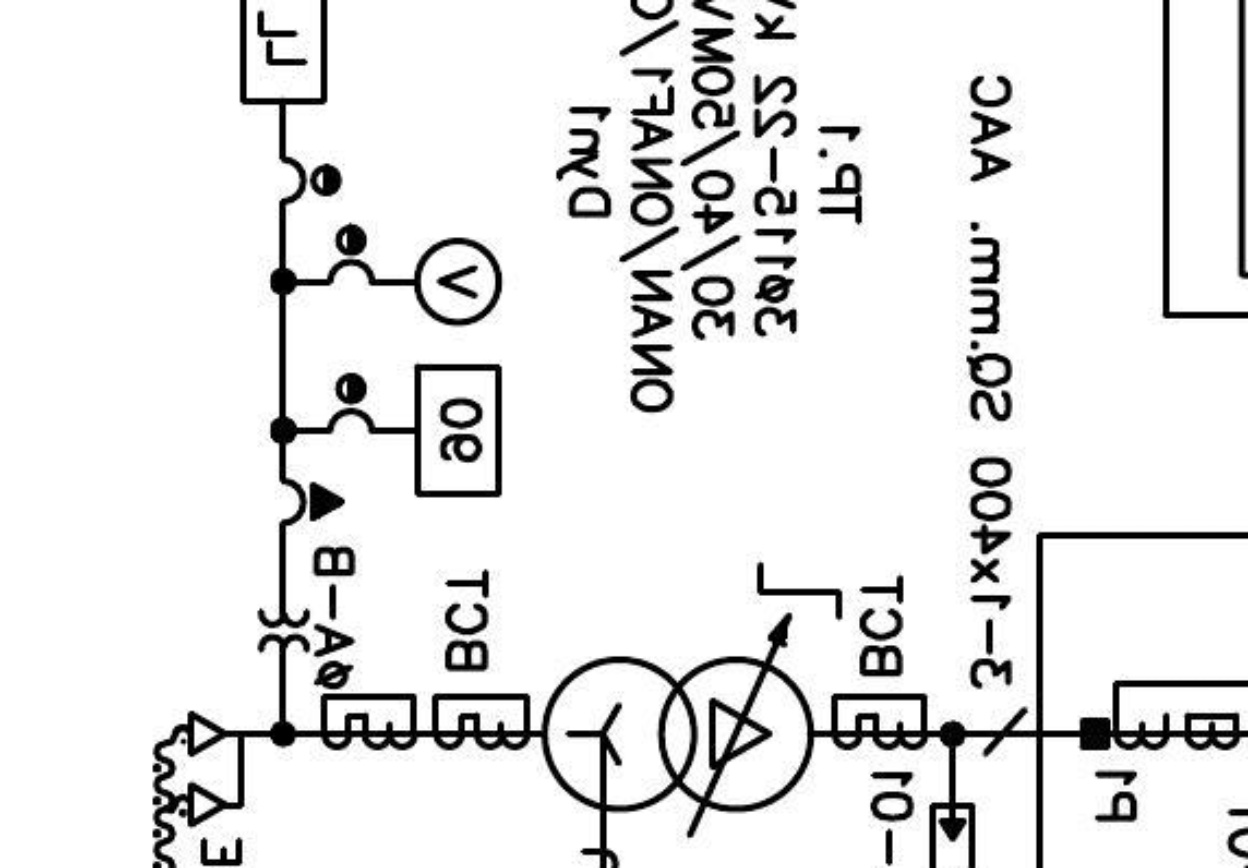11522_tx_dyn1: (540, 654, 815, 814)
terminator_double: (187, 710, 246, 828)
v_m: (413, 235, 504, 329)
